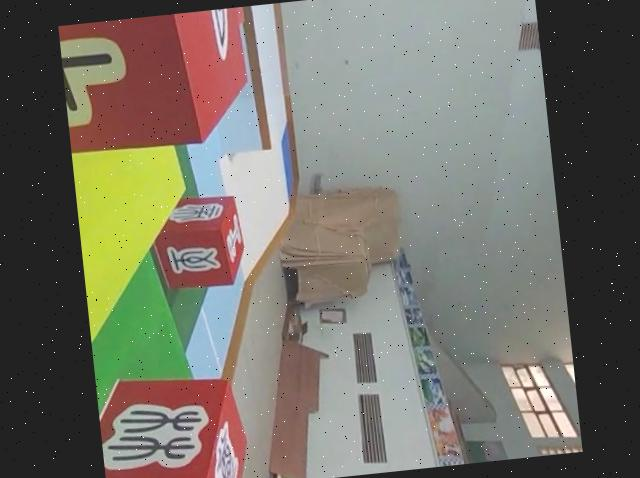R2 Fake: (94, 367, 250, 478), (149, 193, 250, 293)
R2 Real: (58, 8, 252, 159)
